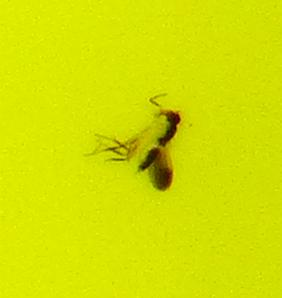Brachycera: (100, 100, 182, 198)
